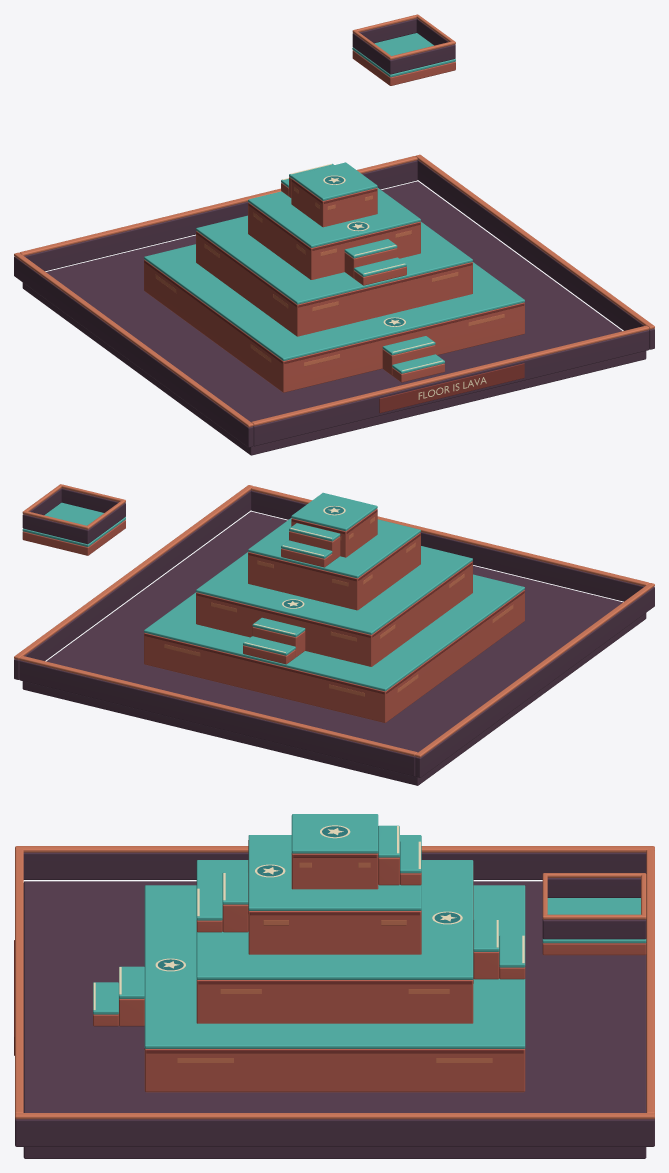
Rendered from lava-arena-static-v1.glb.
3 renders of one model, top to bottom at view 1: azimuth 30°, elevation 25°; view 2: azimuth 150°, elevation 25°; view 3: azimuth 270°, elevation 25°, orthographic. The views are drawn at different scales.
Visible parts, largest first — view 1: lava-arena-static-v1; view 2: lava-arena-static-v1; view 3: lava-arena-static-v1.
Boxes of the visible parts, bbox=[...] form: lava-arena-static-v1: bbox=[14, 14, 654, 455]; lava-arena-static-v1: bbox=[14, 484, 654, 785]; lava-arena-static-v1: bbox=[14, 814, 654, 1158].
Size of the model in its own units: 37 by 15.5 by 37.07.
